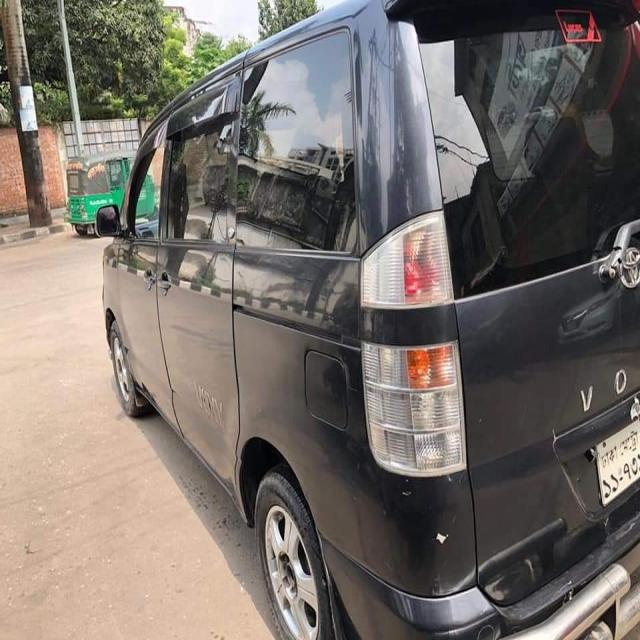black: (100, 0, 640, 635)
